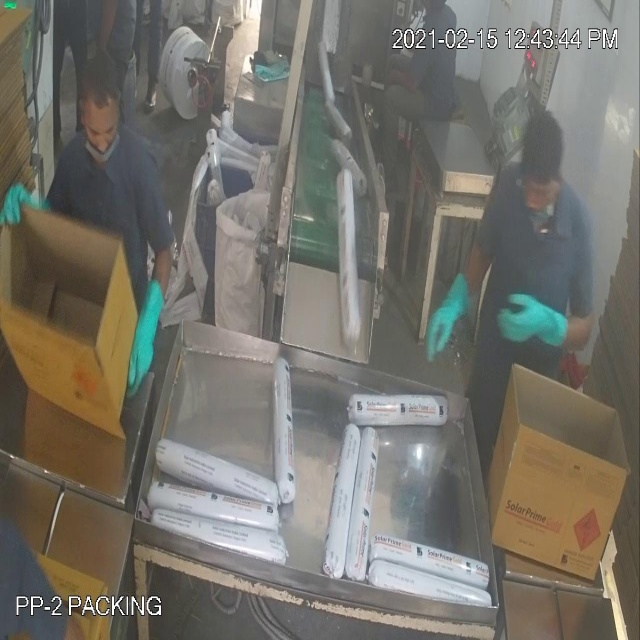Guantes: (491, 268, 573, 366), (120, 244, 169, 404), (425, 259, 478, 382)
